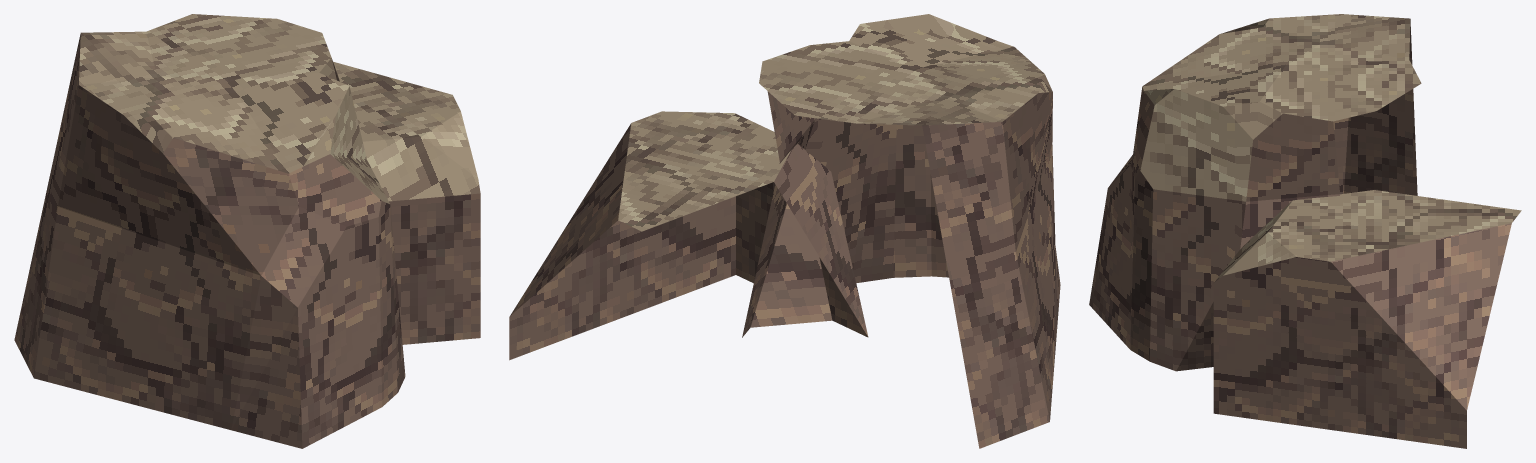
The model's file is S_M1SurfaceRockB.fbx.
The picture shows the model from 3 angles, left to right: view 1: azimuth 30°, elevation 25°; view 2: azimuth 150°, elevation 25°; view 3: azimuth 270°, elevation 25°; orthographic projection. The views are drawn at different scales.
Parts seen in each view (by area): view 1: S_M1SurfaceRockB; view 2: S_M1SurfaceRockB; view 3: S_M1SurfaceRockB.
Boxes of the visible parts, bbox=[...] form: S_M1SurfaceRockB: bbox=[14, 14, 480, 448]; S_M1SurfaceRockB: bbox=[509, 14, 1060, 448]; S_M1SurfaceRockB: bbox=[1089, 14, 1521, 448].
Bounding box in the file's own units: 152 × 94.33 × 138.
2 materials, 2 textured.
